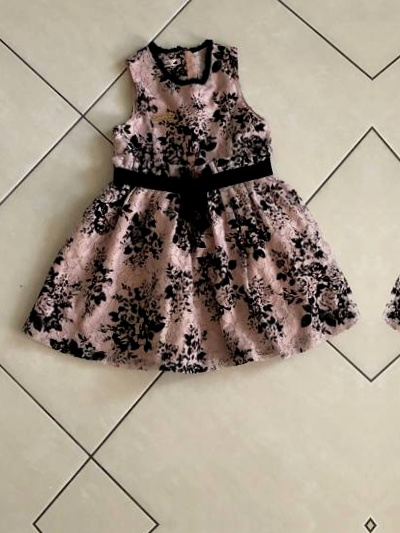Dress: (9, 35, 345, 392), (400, 36, 400, 394)
